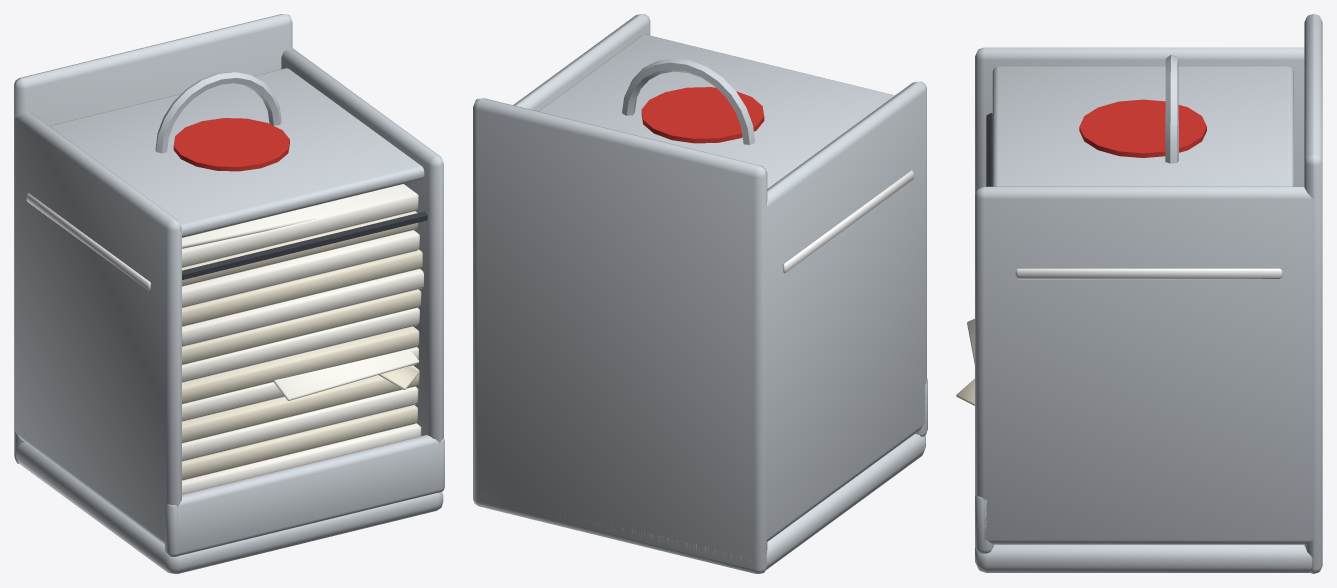
File: truck_napkin_dispenser.glb
3 renders of one model, left to right at view 1: azimuth 30°, elevation 25°; view 2: azimuth 150°, elevation 25°; view 3: azimuth 270°, elevation 25°, orthographic. The views are drawn at different scales.
Visible parts, largest first — view 1: TruckNapkinDispenser; view 2: TruckNapkinDispenser; view 3: TruckNapkinDispenser.
Boxes of the visible parts, x1=… form: TruckNapkinDispenser: x1=14, y1=14, x2=444, y2=573; TruckNapkinDispenser: x1=473, y1=14, x2=927, y2=573; TruckNapkinDispenser: x1=956, y1=14, x2=1322, y2=573.
Bounding box in the file's own units: 3.08 × 4.21 × 3.16.
